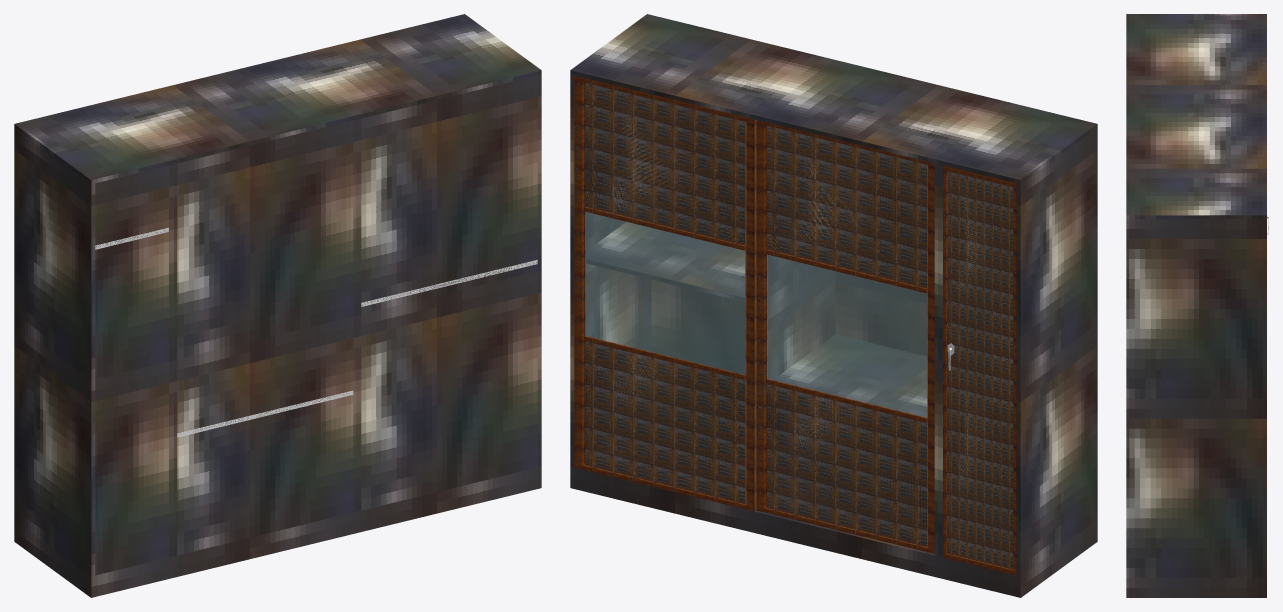
The picture shows the model from 3 angles, left to right: view 1: azimuth 30°, elevation 25°; view 2: azimuth 150°, elevation 25°; view 3: azimuth 270°, elevation 25°; orthographic projection. The views are drawn at different scales.
Visible parts, largest first — view 1: mesh8_mesh8-geometry, mesh10_mesh10-geometry, mesh12_mesh12-geometry; view 2: mesh8_mesh8-geometry, mesh5_mesh5-geometry, mesh6_mesh6-geometry, mesh7_mesh7-geometry; view 3: mesh8_mesh8-geometry.
Part boxes in pixels (x1,y1,x2,y2): mesh8_mesh8-geometry: (14,14,541,597); mesh10_mesh10-geometry: (361,260,537,306); mesh12_mesh12-geometry: (177,390,353,437); mesh8_mesh8-geometry: (570,14,1097,597); mesh5_mesh5-geometry: (574,75,756,511); mesh6_mesh6-geometry: (756,120,934,553); mesh7_mesh7-geometry: (943,165,1016,575); mesh8_mesh8-geometry: (1126,14,1266,597).
Size of the model in its own units: 0.7303 by 0.6473 by 0.2184.
